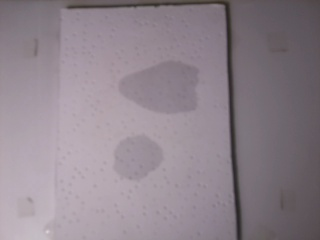Water_detected: (129, 71, 190, 114), (125, 146, 165, 181)
